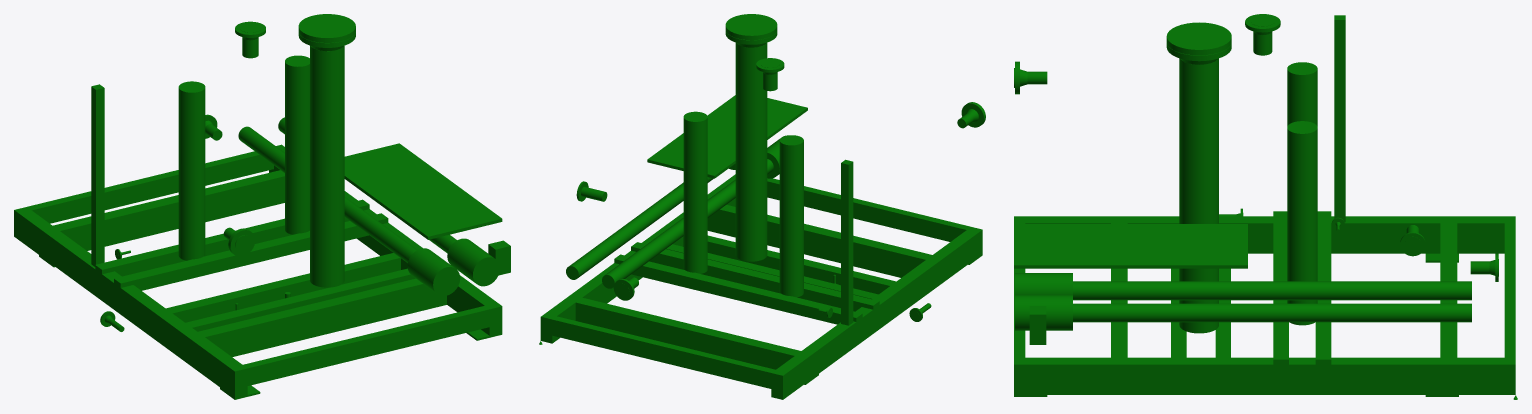
The model's file is Image-1710907683319-2280669982880_45-XW50.fbx.
3 views of the same model, side by side, from view 1: azimuth 30°, elevation 25°; view 2: azimuth 150°, elevation 25°; view 3: azimuth 270°, elevation 25° (orthographic). The views are drawn at different scales.
Parts seen in each view (by area): view 1: BOX 6 of SUBEQUIPMENT /45-XW50/FOUNDATION, CYLINDER 1 of SUBEQUIPMENT /45-XW50/SCRUBBER, BOX 1 of SUBEQUIPMENT /45-XW50/FOUNDATION, BOX 16 of SUBEQUIPMENT /45-XW50/FOUNDATION, BOX 9 of SUBEQUIPMENT /45-XW50/FOUNDATION, BOX 10 of SUBEQUIPMENT /45-XW50/FOUNDATION, CYLINDER 1 of SUBEQUIPMENT /45-XW50/FILTER-1, BOX 15 of SUBEQUIPMENT /45-XW50/FOUNDATION, CYLINDER 1 of SUBEQUIPMENT /45-XW50/FILTER-2, BOX 13 of SUBEQUIPMENT /45-XW50/FOUNDATION, BOX 12 of SUBEQUIPMENT /45-XW50/FOUNDATION, BOX 11 of SUBEQUIPMENT /45-XW50/FOUNDATION (+10 smaller); view 2: BOX 6 of SUBEQUIPMENT /45-XW50/FOUNDATION, CYLINDER 1 of SUBEQUIPMENT /45-XW50/SCRUBBER, BOX 9 of SUBEQUIPMENT /45-XW50/FOUNDATION, BOX 15 of SUBEQUIPMENT /45-XW50/FOUNDATION, BOX 16 of SUBEQUIPMENT /45-XW50/FOUNDATION, CYLINDER 1 of SUBEQUIPMENT /45-XW50/FILTER-2, CYLINDER 1 of SUBEQUIPMENT /45-XW50/FILTER-1, BOX 14 of SUBEQUIPMENT /45-XW50/FOUNDATION, BOX 1 of SUBEQUIPMENT /45-XW50/FOUNDATION, BOX 10 of SUBEQUIPMENT /45-XW50/FOUNDATION, BOX 13 of SUBEQUIPMENT /45-XW50/FOUNDATION, BOX 8 of SUBEQUIPMENT /45-XW50/FOUNDATION (+10 smaller); view 3: BOX 8 of SUBEQUIPMENT /45-XW50/FOUNDATION, BOX 1 of SUBEQUIPMENT /45-XW50/FOUNDATION, BOX 6 of SUBEQUIPMENT /45-XW50/FOUNDATION, CYLINDER 1 of SUBEQUIPMENT /45-XW50/HEATER-1, CYLINDER 1 of SUBEQUIPMENT /45-XW50/HEATER-2, CYLINDER 1 of SUBEQUIPMENT /45-XW50/SCRUBBER, CYLINDER 1 of SUBEQUIPMENT /45-XW50/FILTER-2, BOX 7 of SUBEQUIPMENT /45-XW50/FOUNDATION, BOX 9 of SUBEQUIPMENT /45-XW50/FOUNDATION, BOX 14 of SUBEQUIPMENT /45-XW50/FOUNDATION, BOX 13 of SUBEQUIPMENT /45-XW50/FOUNDATION, CYLINDER 1 of SUBEQUIPMENT /45-XW50/FILTER-1 (+13 smaller).
Boxes of the visible parts, <box> form: BOX 6 of SUBEQUIPMENT /45-XW50/FOUNDATION: <box>14,207,247,397</box>; CYLINDER 1 of SUBEQUIPMENT /45-XW50/SCRUBBER: <box>310,45,344,287</box>; BOX 1 of SUBEQUIPMENT /45-XW50/FOUNDATION: <box>344,143,502,239</box>; BOX 16 of SUBEQUIPMENT /45-XW50/FOUNDATION: <box>185,278,446,366</box>; BOX 9 of SUBEQUIPMENT /45-XW50/FOUNDATION: <box>40,170,284,260</box>; BOX 10 of SUBEQUIPMENT /45-XW50/FOUNDATION: <box>230,306,489,388</box>; CYLINDER 1 of SUBEQUIPMENT /45-XW50/FILTER-1: <box>178,81,205,260</box>; BOX 15 of SUBEQUIPMENT /45-XW50/FOUNDATION: <box>14,151,273,229</box>; CYLINDER 1 of SUBEQUIPMENT /45-XW50/FILTER-2: <box>285,55,309,234</box>; BOX 13 of SUBEQUIPMENT /45-XW50/FOUNDATION: <box>114,213,388,295</box>; BOX 12 of SUBEQUIPMENT /45-XW50/FOUNDATION: <box>139,253,400,331</box>; BOX 11 of SUBEQUIPMENT /45-XW50/FOUNDATION: <box>159,268,415,346</box>; BOX 6 of SUBEQUIPMENT /45-XW50/FOUNDATION: <box>771,227,982,399</box>; CYLINDER 1 of SUBEQUIPMENT /45-XW50/SCRUBBER: <box>735,43,767,261</box>; BOX 9 of SUBEQUIPMENT /45-XW50/FOUNDATION: <box>564,296,812,382</box>; BOX 15 of SUBEQUIPMENT /45-XW50/FOUNDATION: <box>540,316,787,391</box>; BOX 16 of SUBEQUIPMENT /45-XW50/FOUNDATION: <box>707,204,942,277</box>; CYLINDER 1 of SUBEQUIPMENT /45-XW50/FILTER-2: <box>683,111,707,273</box>; CYLINDER 1 of SUBEQUIPMENT /45-XW50/FILTER-1: <box>779,135,803,297</box>; BOX 14 of SUBEQUIPMENT /45-XW50/FOUNDATION: <box>614,254,862,328</box>; BOX 1 of SUBEQUIPMENT /45-XW50/FOUNDATION: <box>647,95,807,178</box>; BOX 10 of SUBEQUIPMENT /45-XW50/FOUNDATION: <box>767,178,970,241</box>; BOX 13 of SUBEQUIPMENT /45-XW50/FOUNDATION: <box>631,242,879,316</box>; BOX 8 of SUBEQUIPMENT /45-XW50/FOUNDATION: <box>540,174,735,343</box>; BOX 8 of SUBEQUIPMENT /45-XW50/FOUNDATION: <box>1014,357,1515,394</box>; BOX 1 of SUBEQUIPMENT /45-XW50/FOUNDATION: <box>1014,224,1247,268</box>; BOX 6 of SUBEQUIPMENT /45-XW50/FOUNDATION: <box>1014,216,1515,253</box>; CYLINDER 1 of SUBEQUIPMENT /45-XW50/HEATER-1: <box>1073,303,1471,322</box>; CYLINDER 1 of SUBEQUIPMENT /45-XW50/HEATER-2: <box>1073,281,1471,300</box>; CYLINDER 1 of SUBEQUIPMENT /45-XW50/SCRUBBER: <box>1179,58,1218,333</box>; CYLINDER 1 of SUBEQUIPMENT /45-XW50/FILTER-2: <box>1287,121,1317,325</box>; BOX 7 of SUBEQUIPMENT /45-XW50/FOUNDATION: <box>1334,15,1345,222</box>; BOX 9 of SUBEQUIPMENT /45-XW50/FOUNDATION: <box>1440,216,1457,394</box>; BOX 14 of SUBEQUIPMENT /45-XW50/FOUNDATION: <box>1315,211,1331,373</box>; BOX 13 of SUBEQUIPMENT /45-XW50/FOUNDATION: <box>1273,211,1288,373</box>; CYLINDER 1 of SUBEQUIPMENT /45-XW50/FILTER-1: <box>1287,62,1317,126</box>.
Size of the model in its own units: 3.73 by 4.52 by 3.08.
